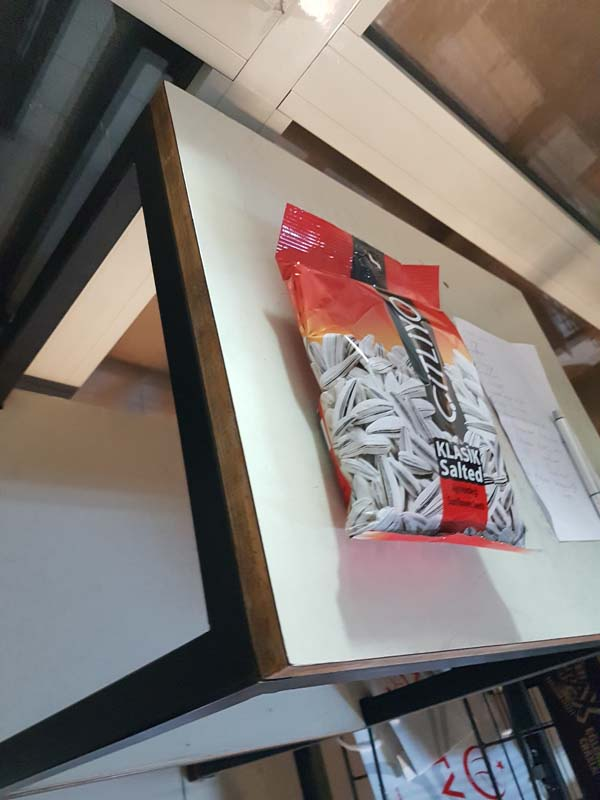citliyorklasik: (263, 192, 551, 555)
